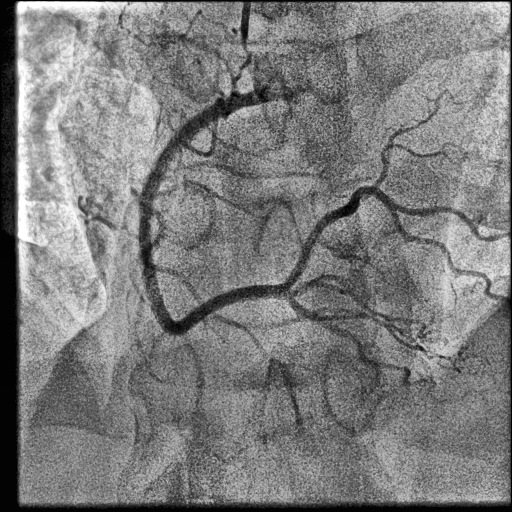pborca: (283, 186, 506, 288)
pda: (284, 291, 436, 389)
rca: (139, 90, 290, 336)
